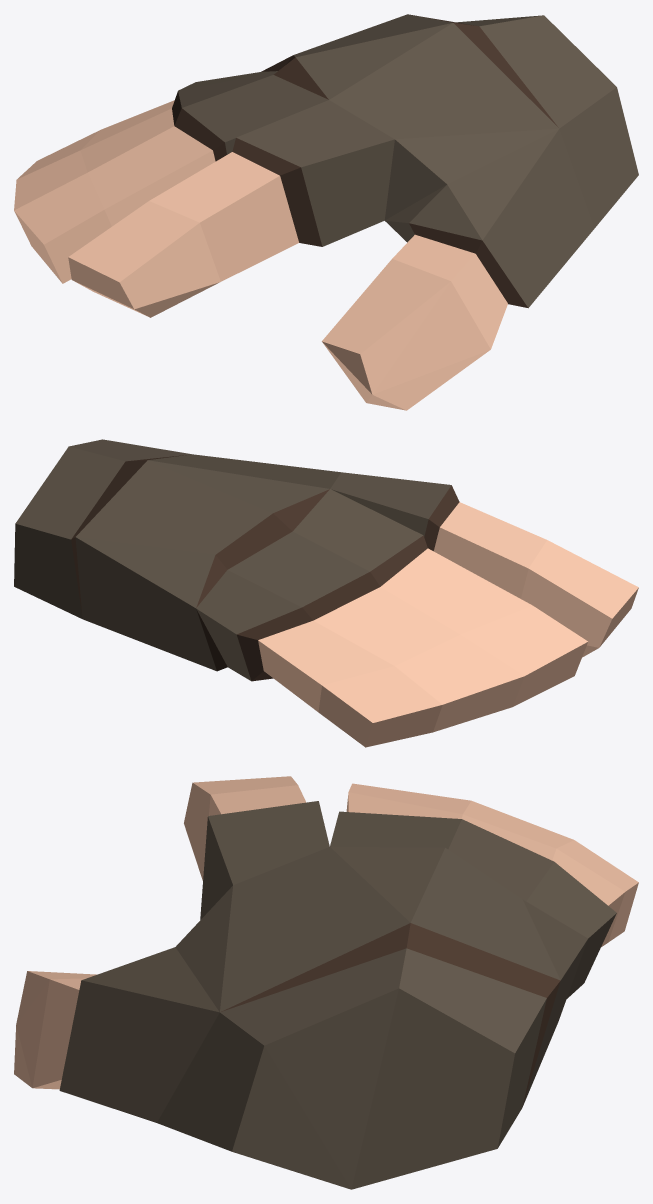
The model's file is Chr_HandRight_Female_04_Static.fbx.
The picture shows the model from 3 angles, top to bottom: view 1: azimuth 30°, elevation 25°; view 2: azimuth 150°, elevation 25°; view 3: azimuth 270°, elevation 25°; orthographic projection. The views are drawn at different scales.
Visible parts, largest first — view 1: Chr_HandRight_Female_04_Static; view 2: Chr_HandRight_Female_04_Static; view 3: Chr_HandRight_Female_04_Static.
Boxes of the visible parts, box(x1,y1,x2,y2) form: Chr_HandRight_Female_04_Static: box(14, 14, 638, 410); Chr_HandRight_Female_04_Static: box(14, 439, 638, 747); Chr_HandRight_Female_04_Static: box(14, 776, 638, 1189).
Bounding box in the file's own units: 0.237 × 0.0985 × 0.188.
